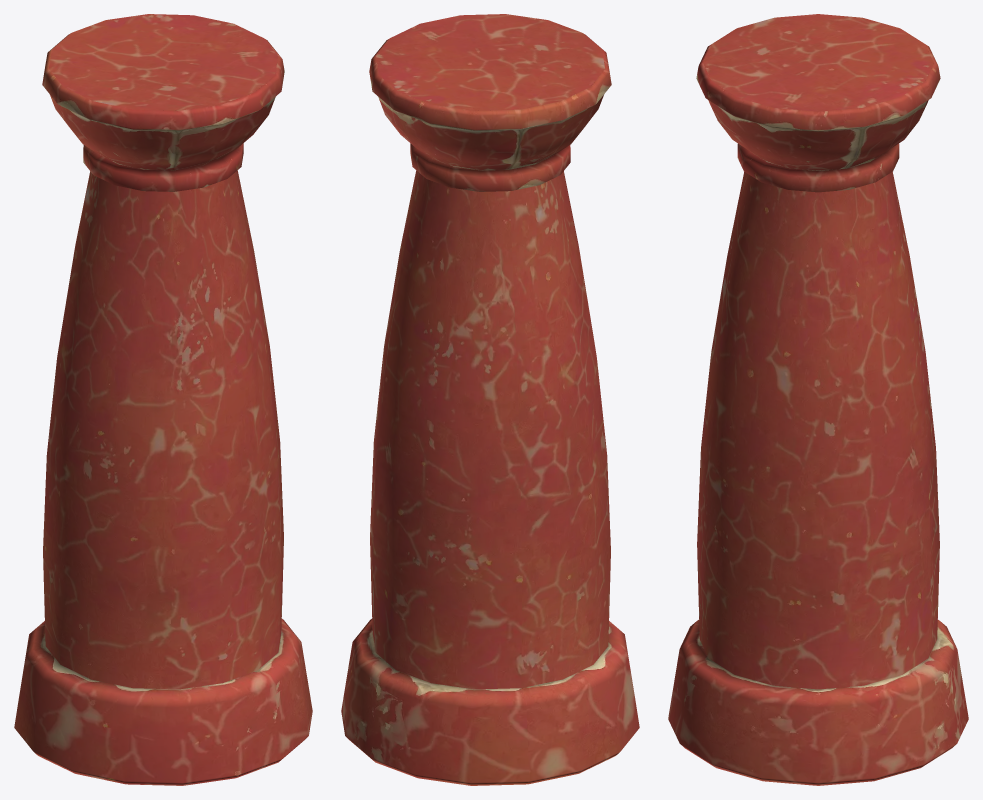
The picture shows the model from 3 angles, left to right: view 1: azimuth 30°, elevation 25°; view 2: azimuth 150°, elevation 25°; view 3: azimuth 270°, elevation 25°; orthographic projection.
Parts seen in each view (by area): view 1: SM_Menaphite_Ruins_Pillar_01_LOD0; view 2: SM_Menaphite_Ruins_Pillar_01_LOD0; view 3: SM_Menaphite_Ruins_Pillar_01_LOD0.
Boxes of the visible parts, left/top/right/bottom form: SM_Menaphite_Ruins_Pillar_01_LOD0: left=14, top=14, right=312, bottom=785; SM_Menaphite_Ruins_Pillar_01_LOD0: left=341, top=14, right=639, bottom=785; SM_Menaphite_Ruins_Pillar_01_LOD0: left=668, top=14, right=968, bottom=785.
Size of the model in its own units: 1.65 by 4 by 1.65.
2 materials, 2 textured.
